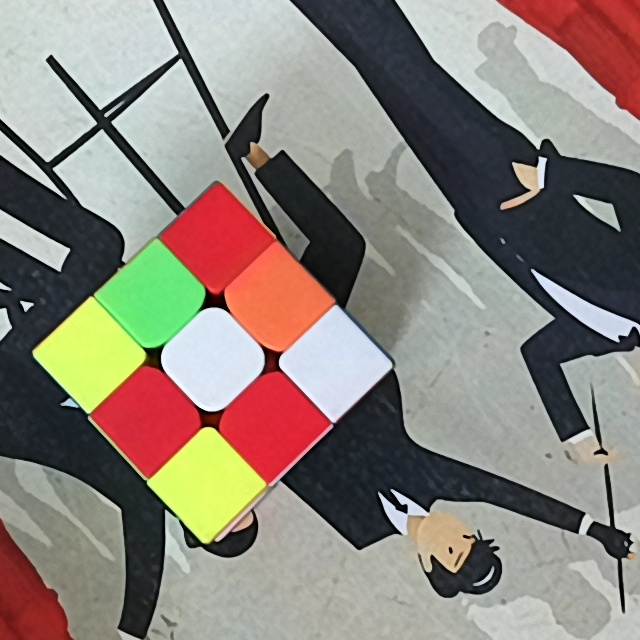tile: (119, 389, 179, 449), (244, 391, 301, 454), (123, 272, 181, 329), (250, 270, 306, 328), (305, 337, 363, 393), (181, 452, 235, 512), (65, 326, 119, 385), (188, 214, 245, 268), (189, 332, 244, 387)
